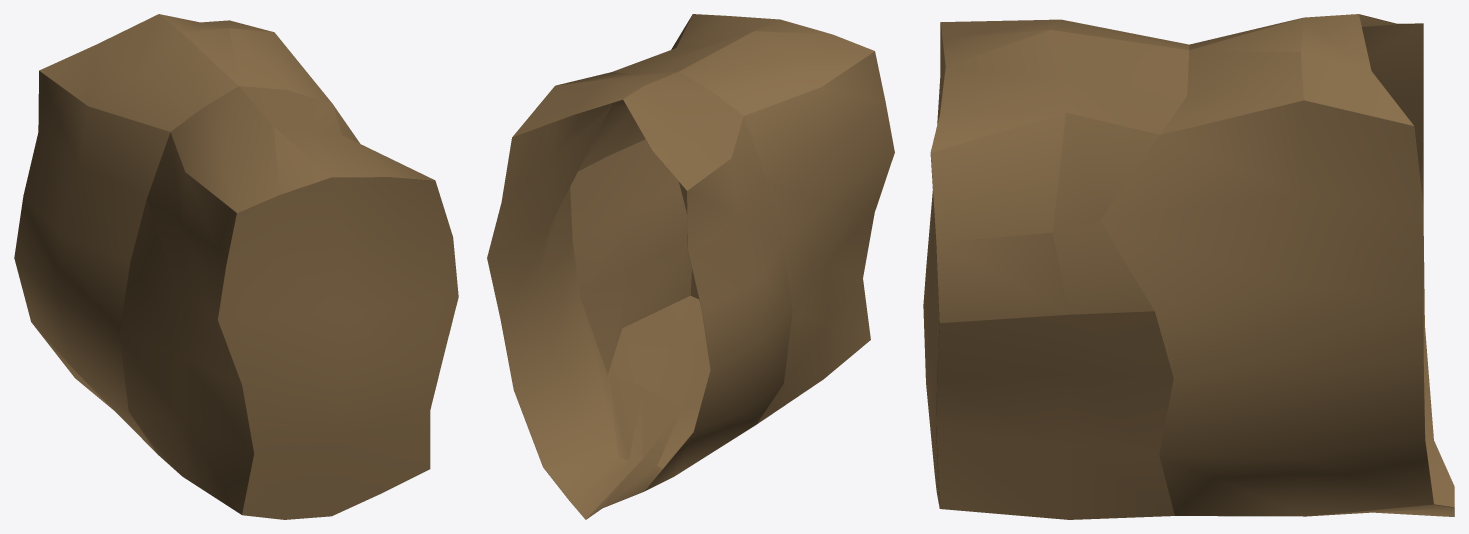
Rendered from kagıt-torba.fbx.
3 views of the same model, side by side, from view 1: azimuth 30°, elevation 25°; view 2: azimuth 150°, elevation 25°; view 3: azimuth 270°, elevation 25° (orthographic). The views are drawn at different scales.
Parts seen in each view (by area): view 1: kagitTorba.001, kagitTorba; view 2: kagitTorba, kagitTorba.001; view 3: kagitTorba, kagitTorba.001.
Part boxes in pixels (x1,y1,x2,y2): kagitTorba.001: (119,86,458,519); kagitTorba: (14,14,332,453); kagitTorba: (487,71,792,519); kagitTorba.001: (570,14,894,424); kagitTorba: (1100,14,1454,516); kagitTorba.001: (923,19,1189,519).
Size of the model in its own units: 654 by 973 by 932.
